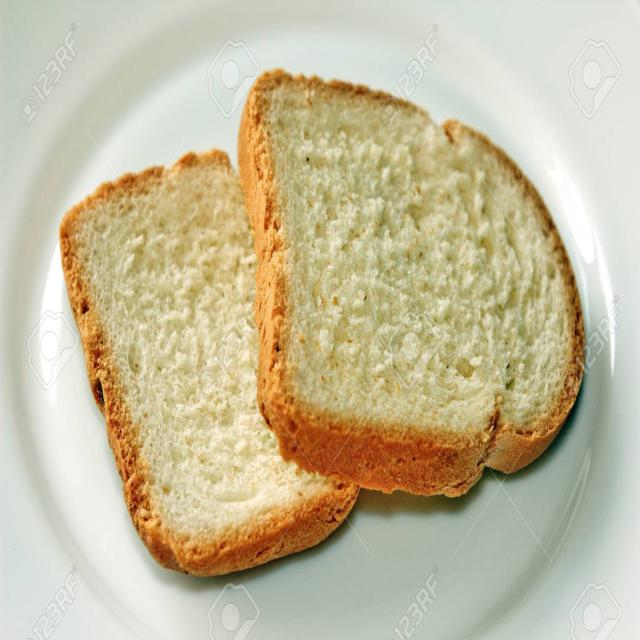Bread: (239, 71, 585, 495), (60, 150, 358, 576)
